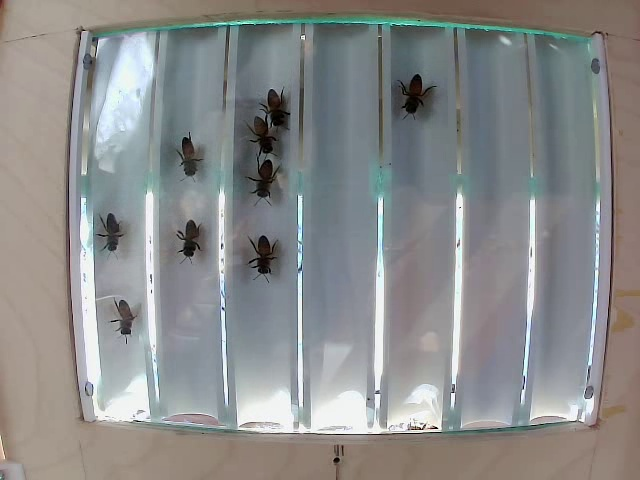bee: (397, 70, 442, 127), (247, 112, 288, 169), (179, 136, 223, 189), (175, 219, 214, 268), (245, 162, 287, 204), (97, 294, 141, 333), (100, 220, 135, 262), (269, 80, 297, 128), (241, 236, 279, 271)
